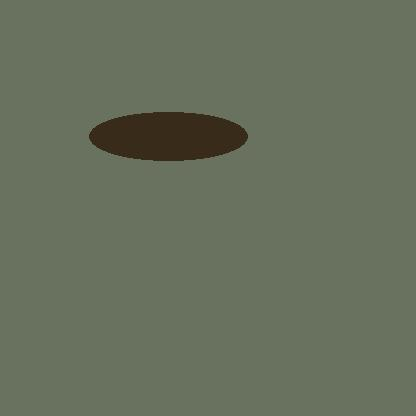pothole: (89, 112, 247, 160)
